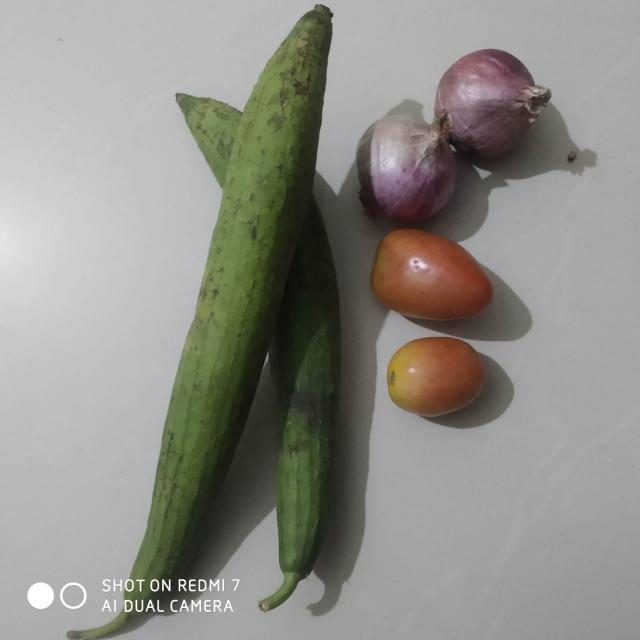Organik: (65, 7, 334, 638), (375, 222, 497, 330), (439, 47, 563, 153), (377, 334, 499, 424), (361, 113, 454, 217)
